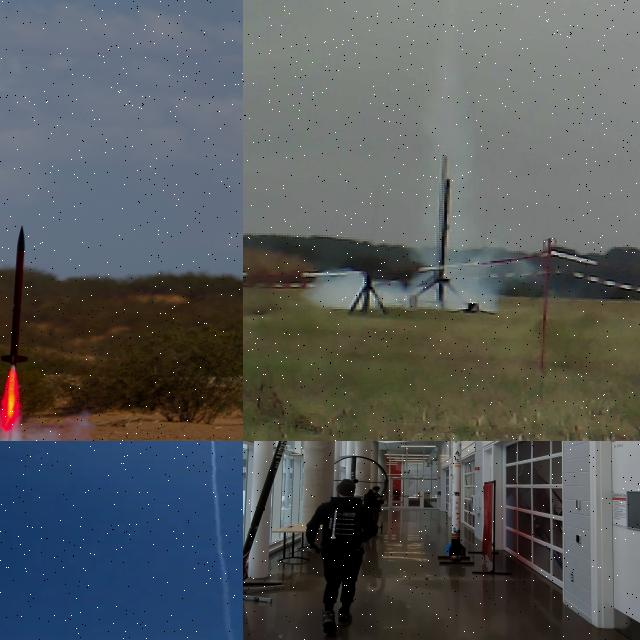Rocket: (243, 441, 287, 580), (0, 224, 29, 366), (446, 441, 466, 557)
